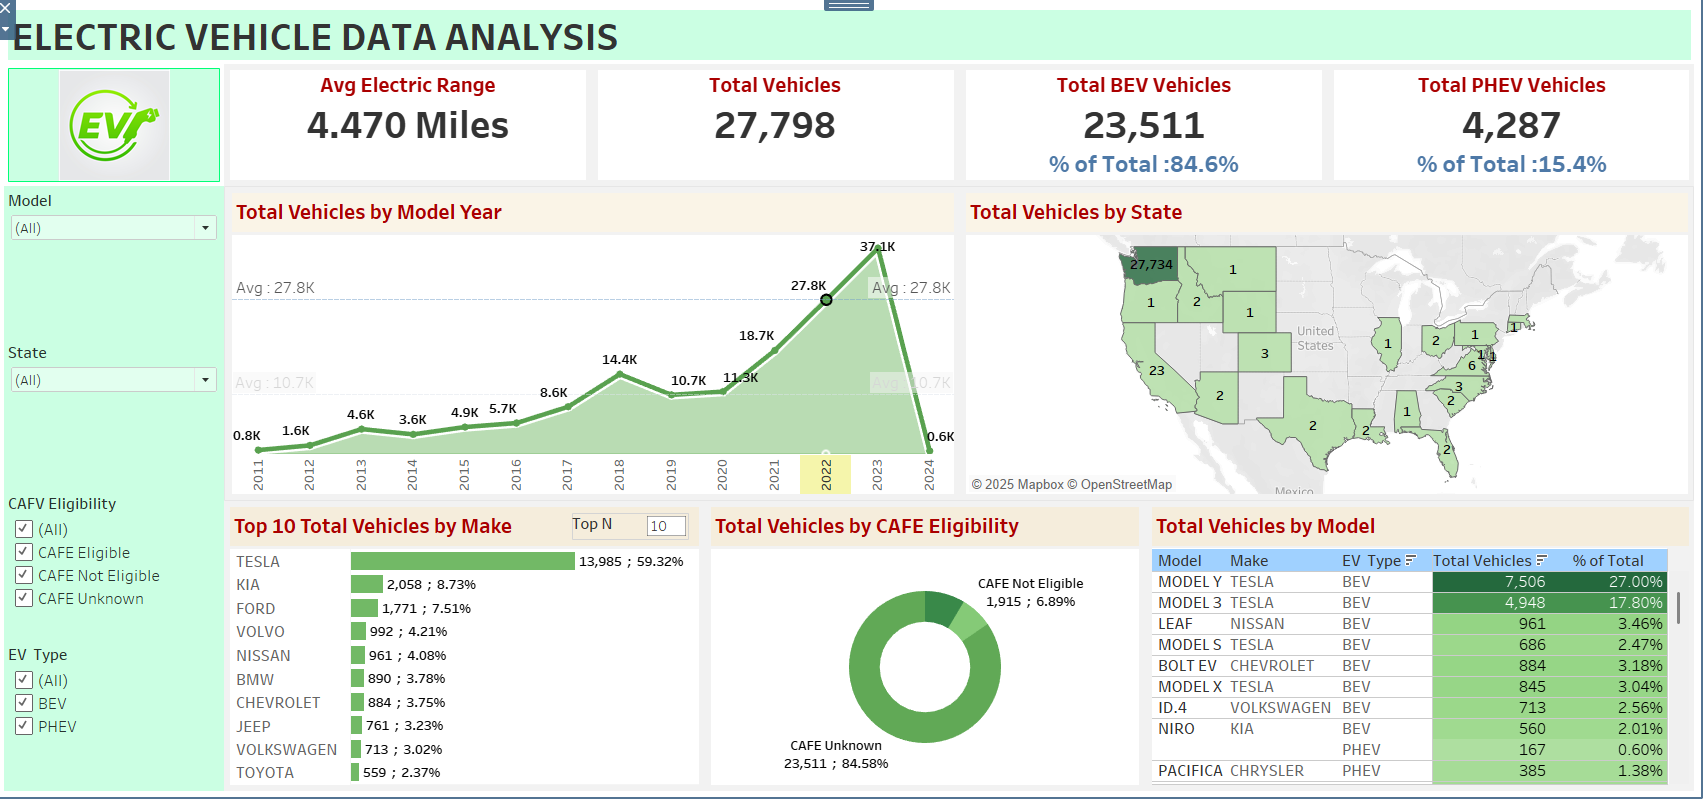

What the dashboard file says about the page in this screenshot:
{"tool":"tableau","page":{"name":"Dashboard 1","canvas":[1000,1000],"units":"permille","ordinal":0},"visuals":[{"type":"title","box":[4.8,10,990.3,72.4]},{"type":"image","param":"Image/EV icon.jpg","box":[4.8,82.4,129.1,152.3]},{"type":"worksheet","title":"Avg Electric Range","mark":"Automatic","box":[134,82.4,215.5,152.3]},{"type":"worksheet","title":"Total Vehicles","mark":"Automatic","box":[349.4,82.4,215.5,152.3]},{"type":"worksheet","title":"Total BEV Vehicles","mark":"Automatic","box":[564.9,82.4,215.5,152.3]},{"type":"worksheet","title":"Total PHEV Vehicles ","mark":"Automatic","box":[780.3,82.4,214.8,152.3]},{"type":"filter","title":"Total Vehicles by Model Year","param":"[federated.1w7bd1a08d468e1cgh7to12ytoke].[none:Model:nk]","box":[4.8,234.7,129.2,189.8]},{"type":"worksheet","title":"Total Vehicles by Model Year","mark":"Area","rows":["Calculation_2206200919040258048","Calculation_2206200919040258048"],"cols":["Model Year"],"box":[134.6,236,430.3,390.8]},{"type":"worksheet","title":"Total Vehicles by State","mark":"Multipolygon","box":[564.8,236,429.7,390.8]},{"type":"filter","title":"Total Vehicles by Model Year","param":"[federated.1w7bd1a08d468e1cgh7to12ytoke].[none:State:nk]","box":[4.8,424.5,129.2,188.5]},{"type":"filter","title":"Total Vehicles by Model Year","param":"[federated.1w7bd1a08d468e1cgh7to12ytoke].[none:Clean Alternative Fuel Vehicle (C","box":[4.8,613,129.2,188.5]},{"type":"worksheet","title":"Top 10 Total Vehicles by Make","mark":"Automatic","rows":["Make"],"cols":["Calculation_2206200919040258048"],"box":[133.9,628,290.3,362]},{"type":"worksheet","title":"Total Vehicles by CAFE Eligibility","mark":"Pie","rows":["Calculation_2122321376224796673","Calculation_2122321376224796673"],"box":[424.2,628,239.6,362]},{"type":"worksheet","title":"Total Vehicles by Model","mark":"Square","rows":["Model","Make","Electric Vehicle Type"],"box":[663.9,628,331.3,362]},{"type":"parameter","param":"[Parameters].[Parameter 1]","box":[337.4,643,68.8,33.7]},{"type":"filter","title":"Total Vehicles by Model Year","param":"[federated.1w7bd1a08d468e1cgh7to12ytoke].[none:Electric Vehicle Type:nk]","box":[4.8,801.5,129.2,188.5]}]}

Visuals, with their boxes on the dashboard's canvas, which has no fixed pixel size, in thousandths of its width and height (x1, y1, x2, y2). These are canvas units, not pixel positions in the 1703x799 screenshot, which may show the page scaled, cropped or inside an application window:
title: 5 10 995 82
image: 5 82 134 235
"Avg Electric Range" worksheet: 134 82 350 235
"Total Vehicles" worksheet: 349 82 565 235
"Total BEV Vehicles" worksheet: 565 82 780 235
"Total PHEV Vehicles " worksheet: 780 82 995 235
"Total Vehicles by Model Year" filter: 5 235 134 424
"Total Vehicles by Model Year" worksheet (Area marks): 135 236 565 627
"Total Vehicles by State" worksheet (Multipolygon marks): 565 236 994 627
"Total Vehicles by Model Year" filter: 5 424 134 613
"Total Vehicles by Model Year" filter: 5 613 134 802
"Top 10 Total Vehicles by Make" worksheet: 134 628 424 990
"Total Vehicles by CAFE Eligibility" worksheet (Pie marks): 424 628 664 990
"Total Vehicles by Model" worksheet (Square marks): 664 628 995 990
parameter: 337 643 406 677
"Total Vehicles by Model Year" filter: 5 802 134 990
